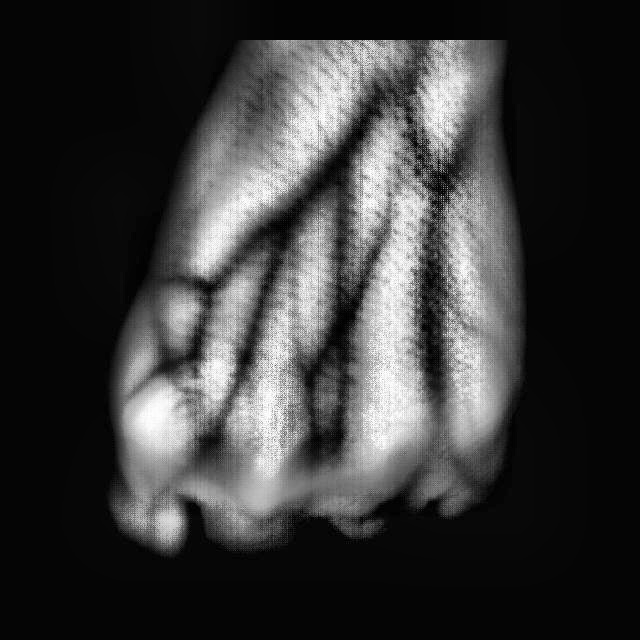Vein: (217, 110, 387, 282)
